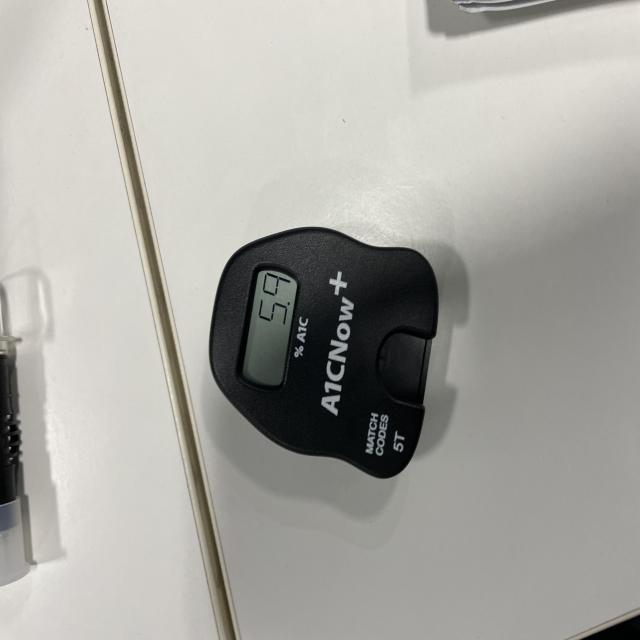hba1c: (207, 228, 445, 483)
